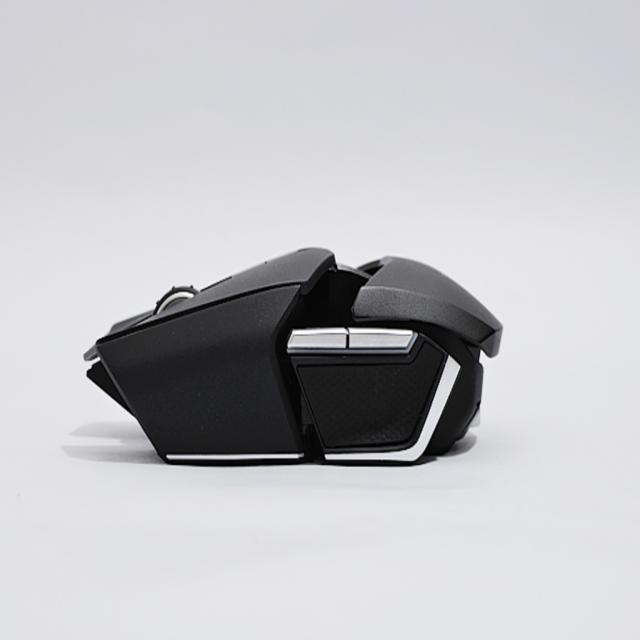Computer-mouse: (87, 238, 501, 467)
